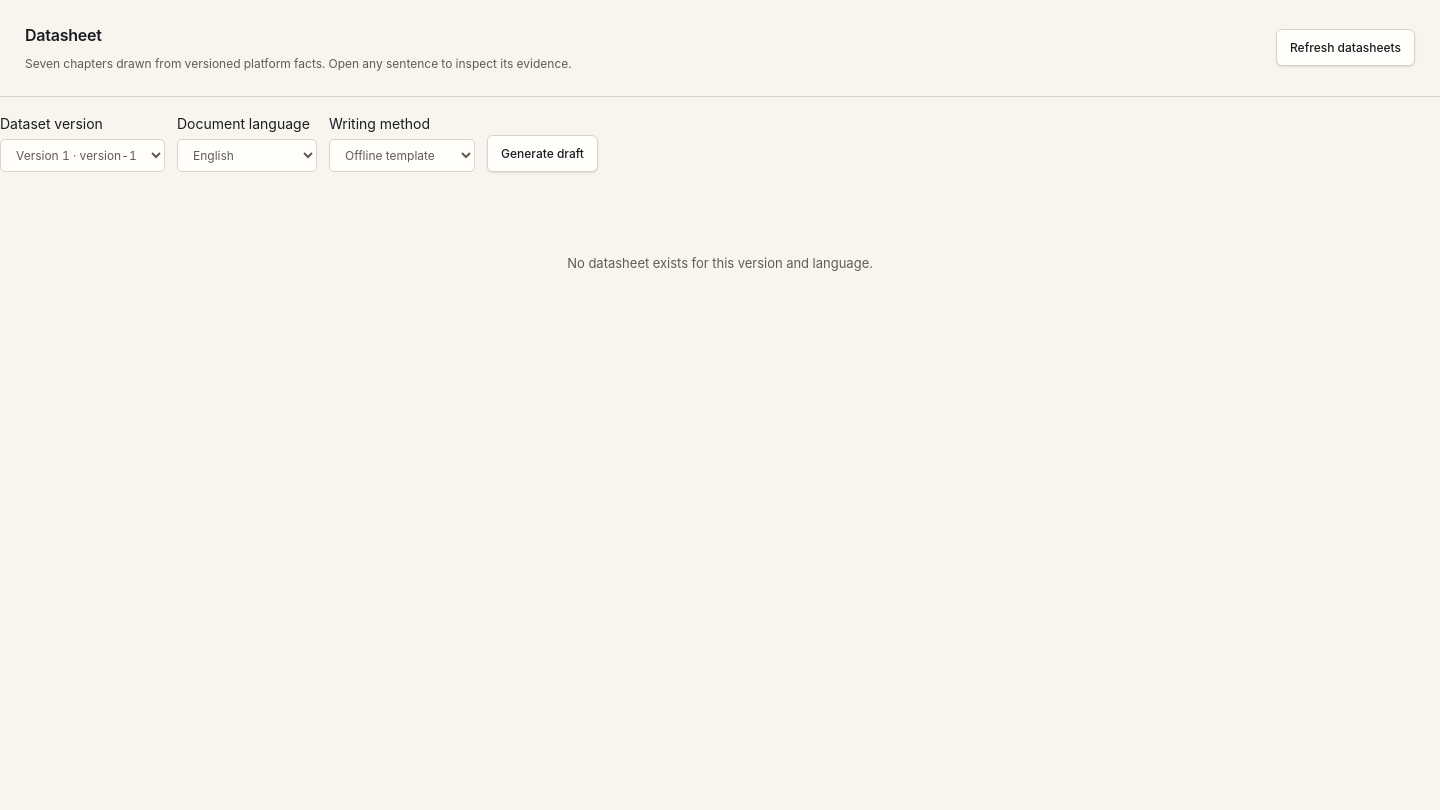
Test: prepares and executes an offline draft without an approval decision
Check: the text "No datasheet exists for this version and language." is shown, box [567,255,873,271]
Click the button "Generate draft": (542, 154) [487,135,598,172]
(page scrolled)
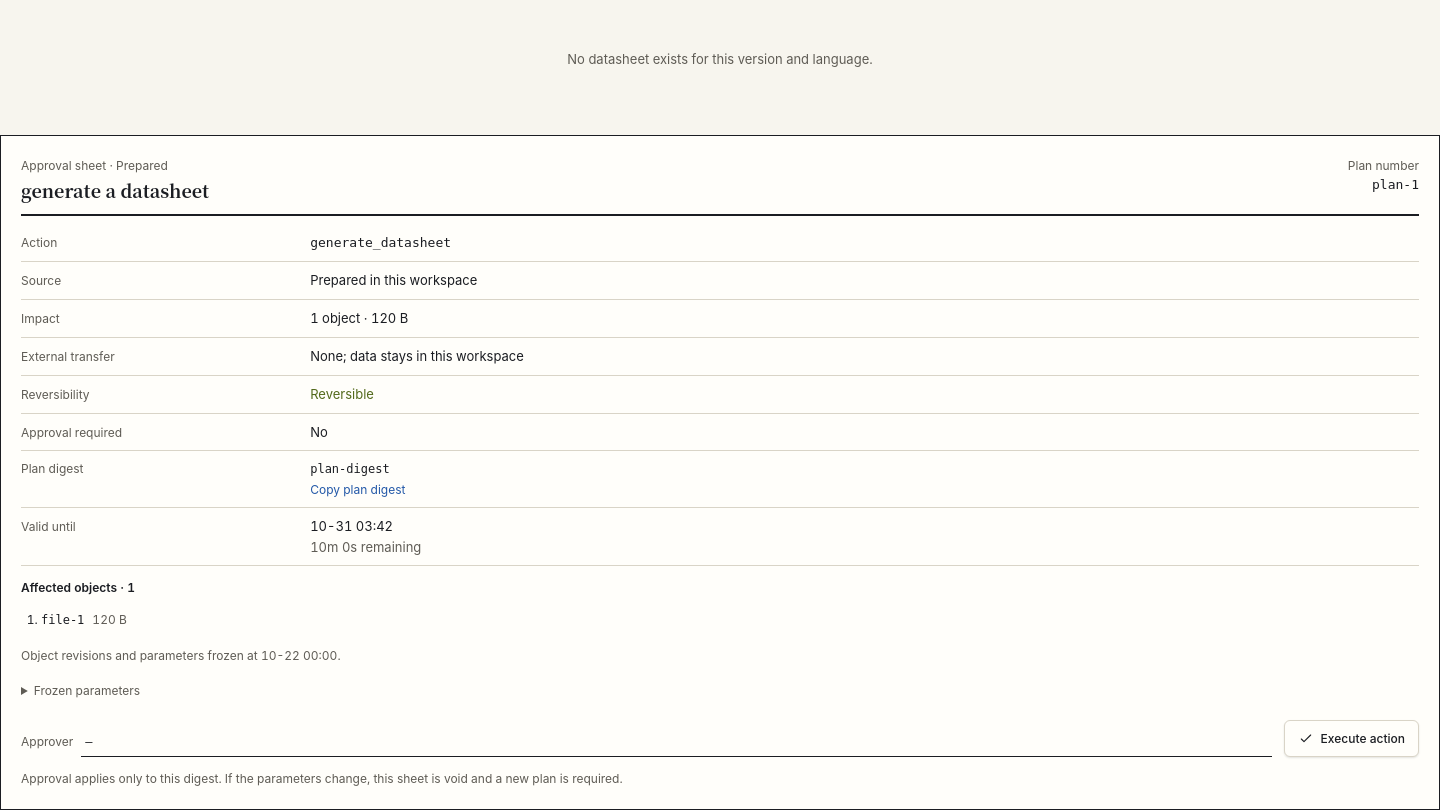
Click the button "Execute action": (1351, 739) [1284,720,1419,757]
(page scrolled)
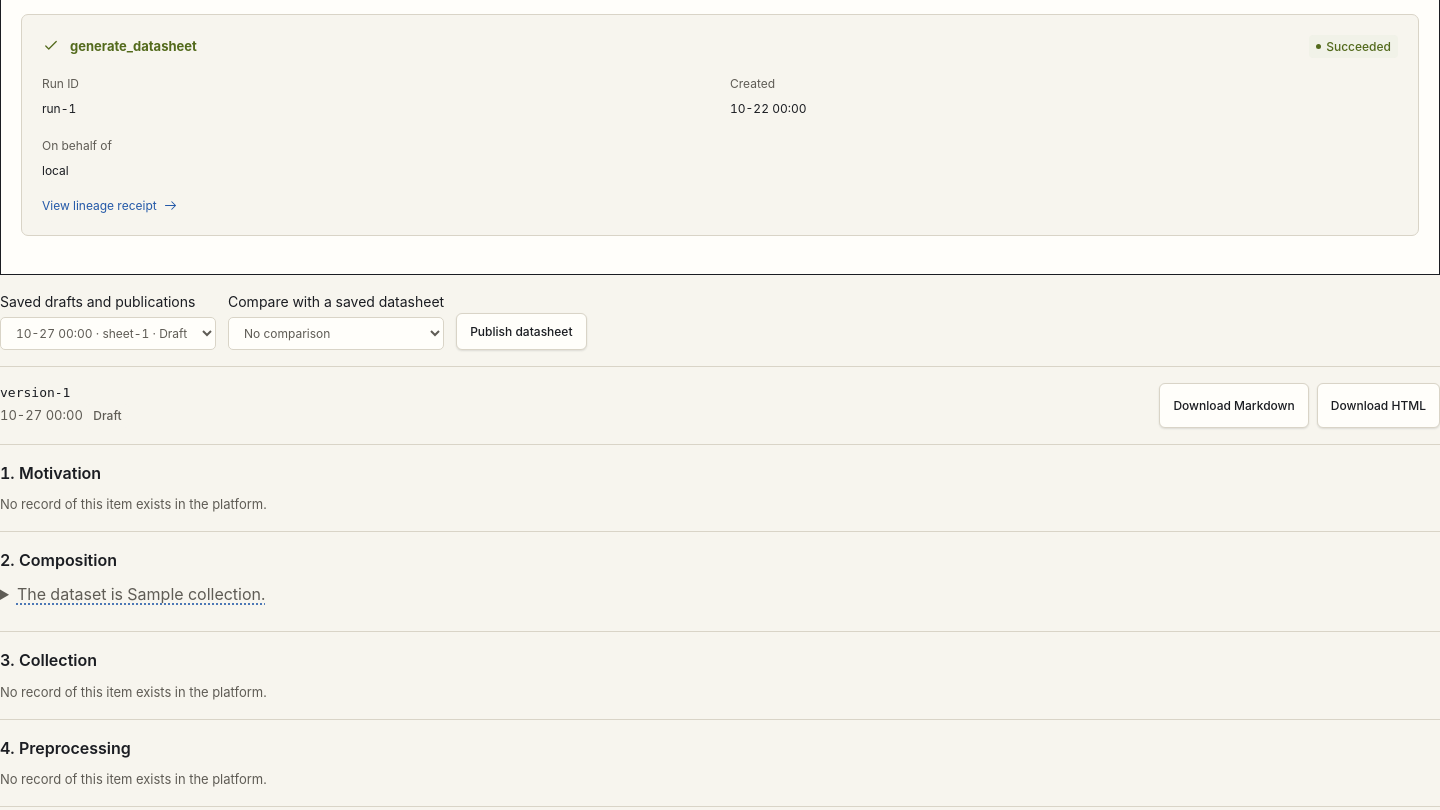
Check: the link "Download Markdown" is shown, box [1159,384,1309,428]
